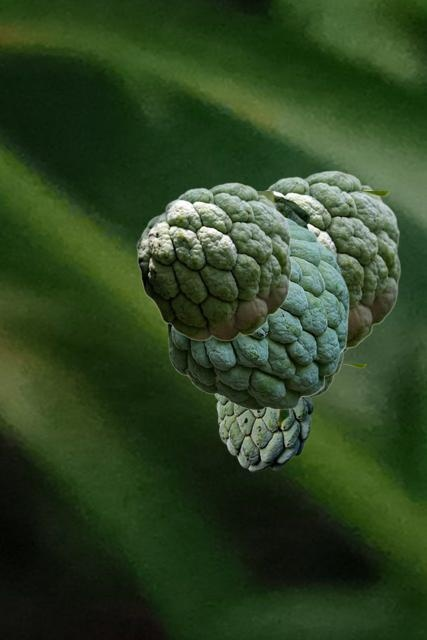atis: (167, 217, 348, 409), (263, 170, 400, 349), (136, 182, 291, 340), (214, 364, 365, 471), (258, 191, 388, 229), (312, 349, 348, 397)
